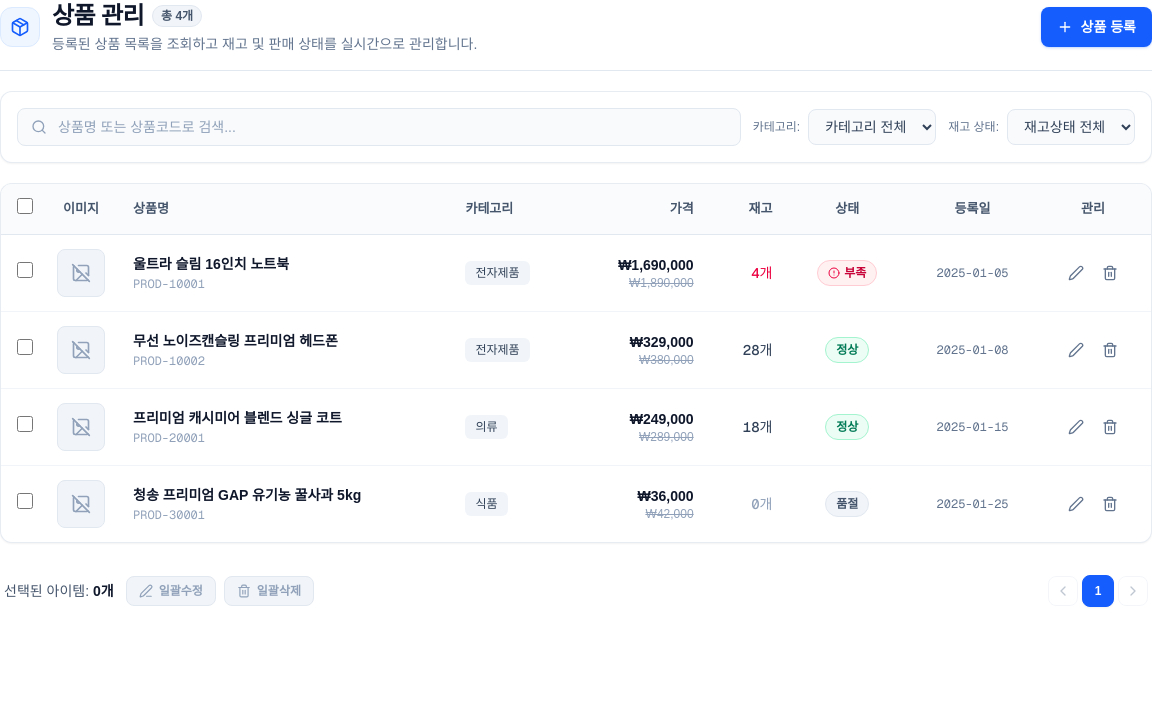
Scenario: ProductView Component (Integration/Presentation Test) › 상품 등록 버튼 클릭 시 모달이 열리고 새 상품을 등록할 수 있다
The image size is (1152, 720).
Click the button "상품 등록" at (1096, 27), box [1041,7,1151,47]
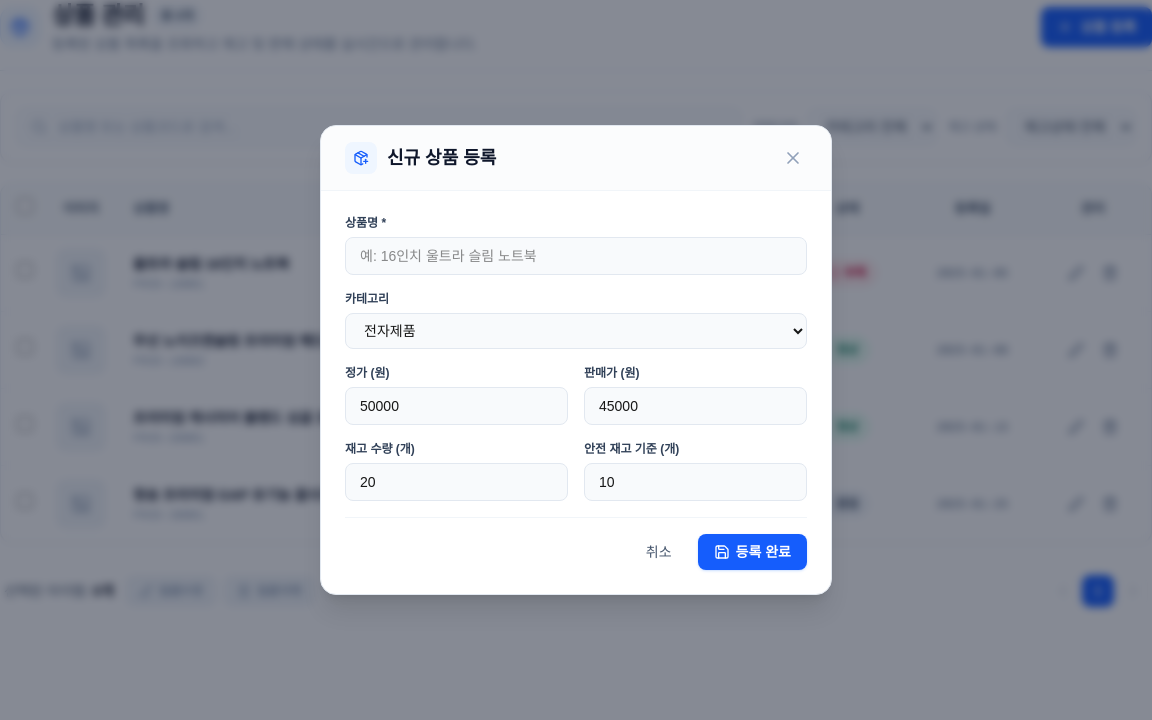
Expected: the heading "신규 상품 등록" is shown, [387,144,496,172]
Type "테스트용 스마트워치" into the field with placeholder "예: 16인치 울트라 슬림 노트북" at (576, 256), box [345,237,807,275]
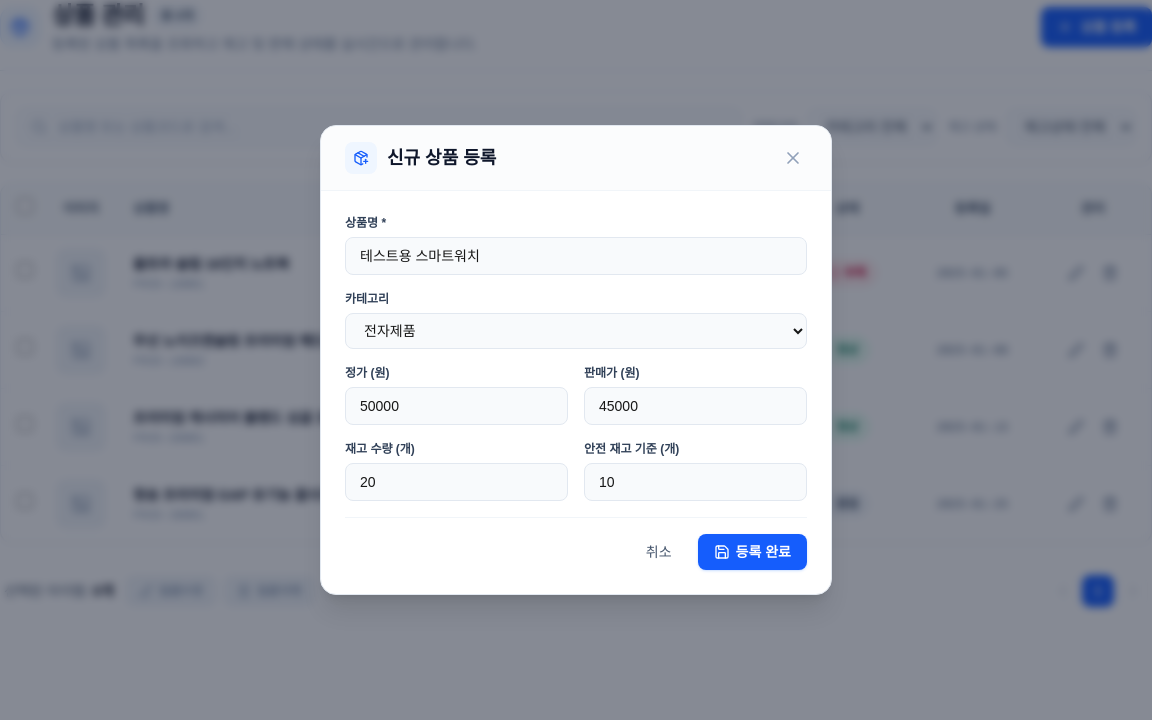
Click the button "등록 완료" at (752, 552), box [698,534,807,570]
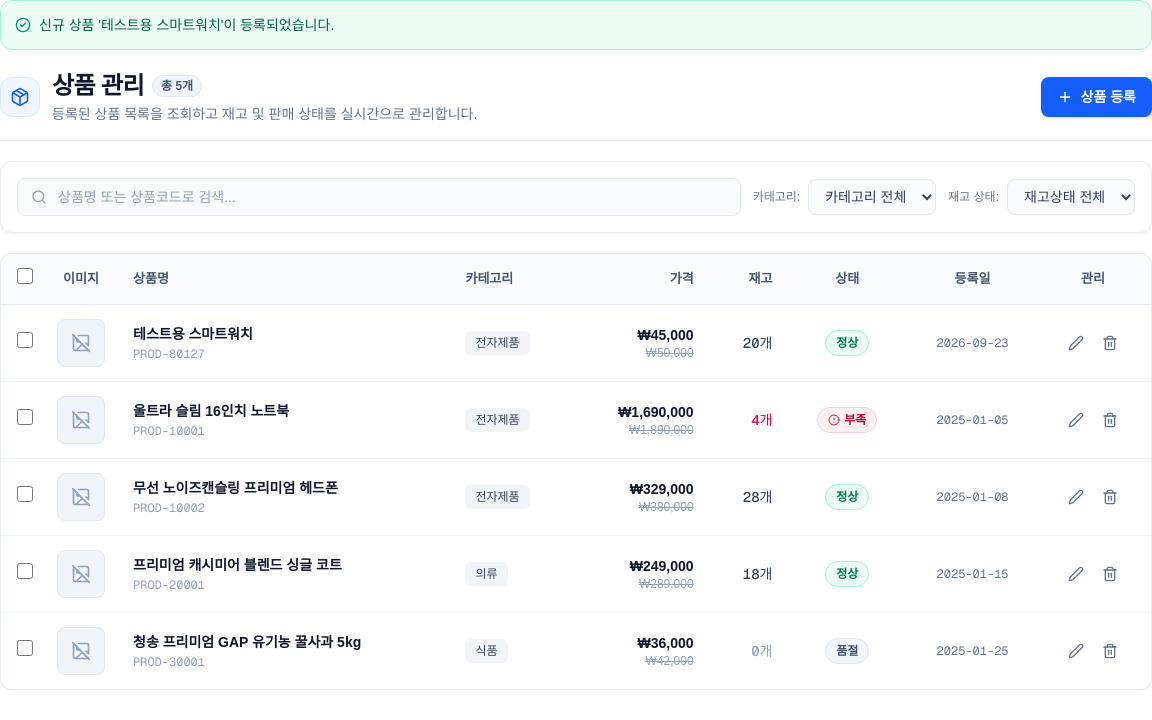
Expected: the text "테스트용 스마트워치" is shown, [133,326,253,342]
